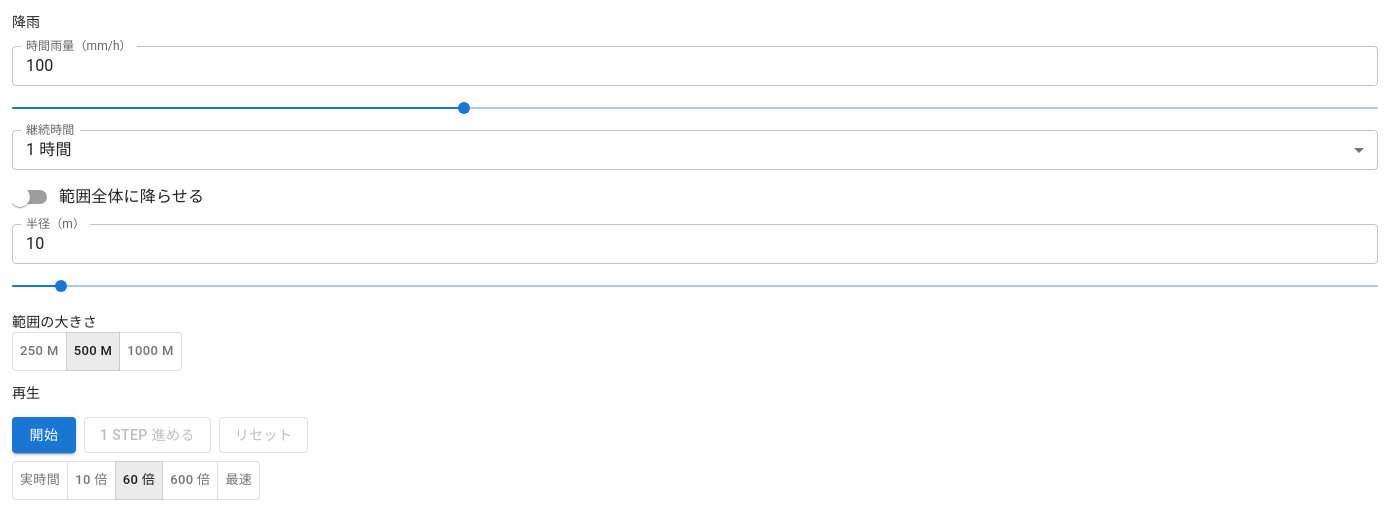
Test: ControlsSection: 雨の入力と検証（spec 08 §4.1・§6.3、R08-7） › 開始の後はリセットするまで雨の入力（時間雨量・継続時間・範囲全体・半径）を変えられない
Click the button "開始" at (44, 435), box [12,417,76,453]
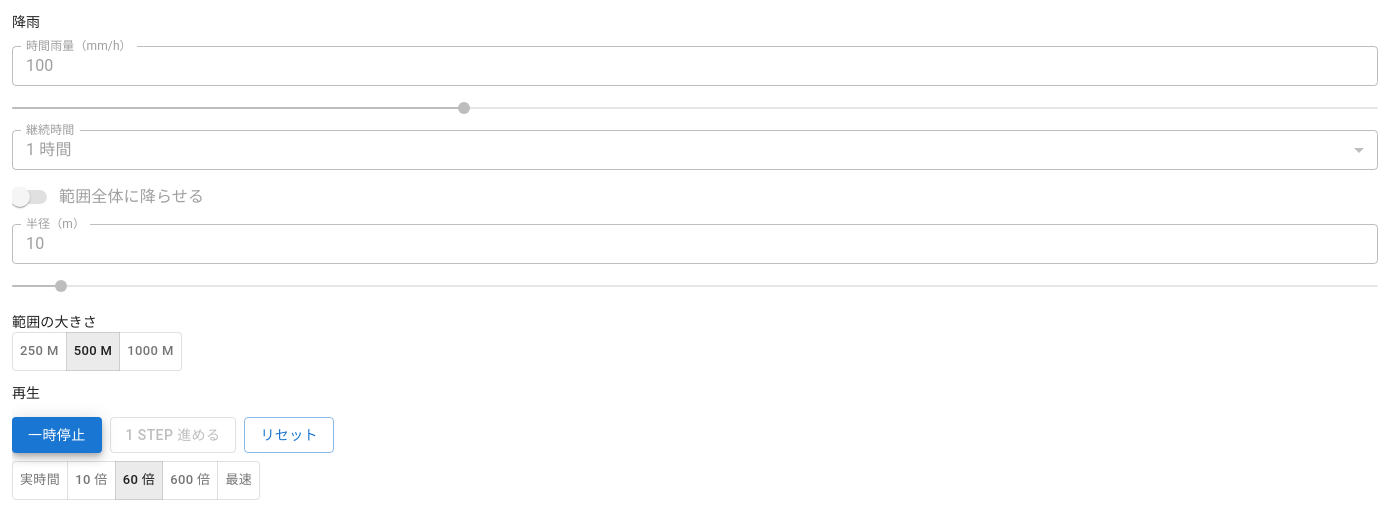
Expected: the field labelled "時間雨量（mm/h）" is disabled, [12,46,1378,86]
Expected: the dropdown labelled "継続時間" is disabled, [12,130,1378,170]
Expected: the field labelled "半径（m）" is disabled, [12,224,1378,264]
Click the button "一時停止" at (57, 435), box [12,417,102,453]
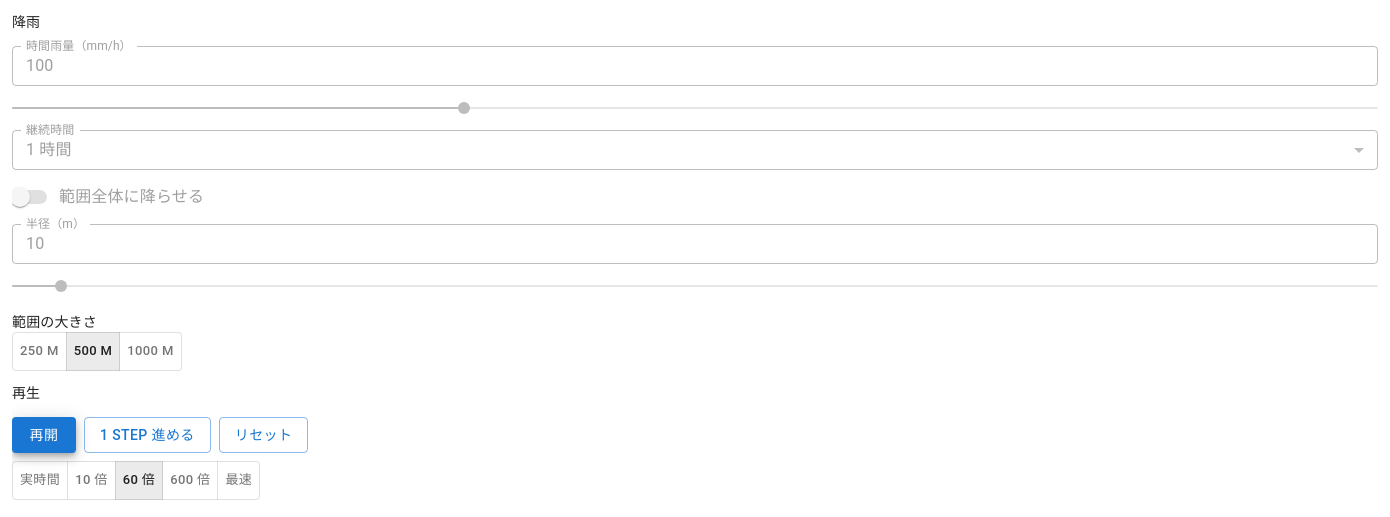
Click the button "リセット" at (264, 435), box [219,417,308,453]
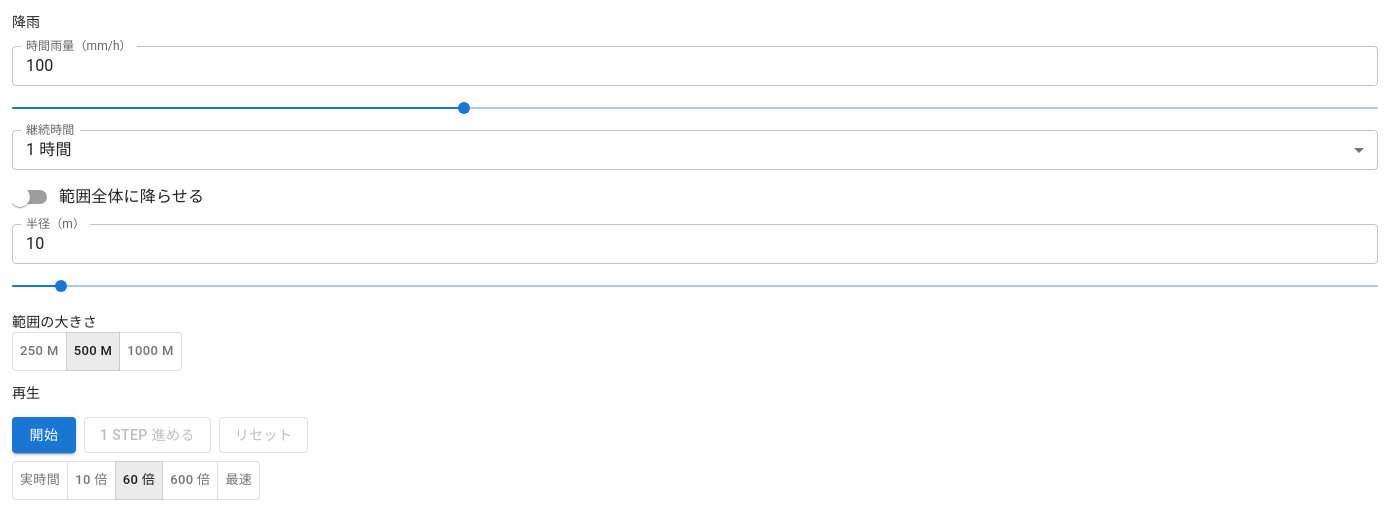
Expected: the field labelled "時間雨量（mm/h）" is enabled, [12,46,1378,86]
